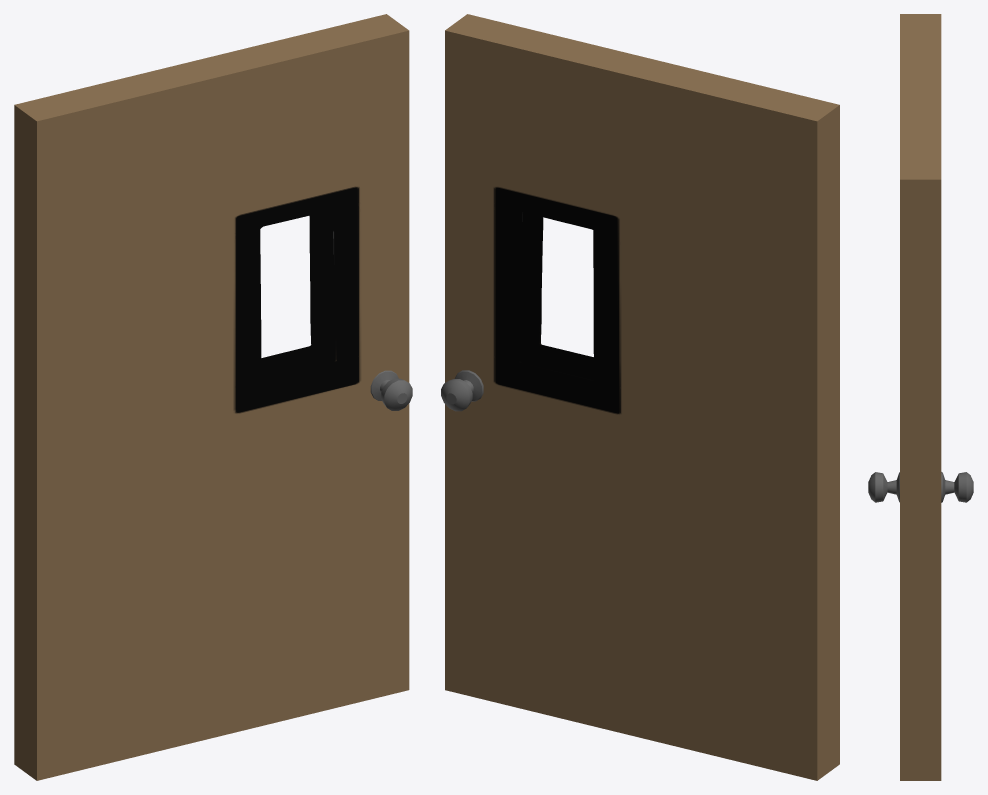
The model's file is Door.fbx.
3 views of the same model, side by side, from view 1: azimuth 30°, elevation 25°; view 2: azimuth 150°, elevation 25°; view 3: azimuth 270°, elevation 25° (orthographic). The views are drawn at different scales.
Visible parts, largest first — view 1: pCube1, pSphere1; view 2: pCube1, pSphere2; view 3: pCube1, pSphere2, pSphere1.
Part boxes in pixels (x1,y1,x2,y2): pCube1: [14, 14, 409, 780]; pSphere1: [370, 370, 412, 410]; pCube1: [445, 14, 839, 780]; pSphere2: [441, 370, 483, 411]; pCube1: [900, 14, 941, 780]; pSphere2: [941, 472, 973, 502]; pSphere1: [868, 472, 899, 502].
Size of the model in its own units: 2.05 by 3.47 by 0.5497.
2 materials, 1 textured.
